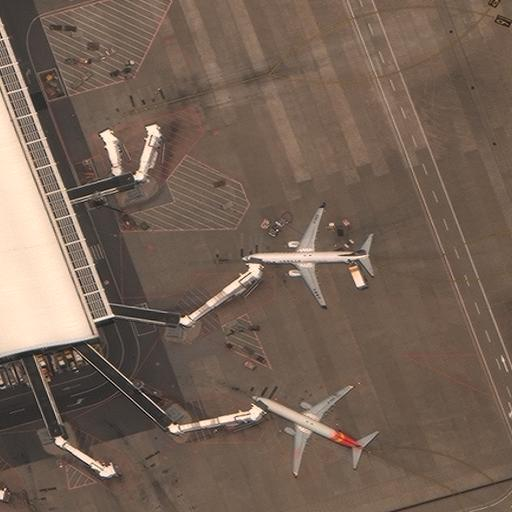Medium Civil Transport: (239, 206, 371, 306), (250, 384, 364, 474)
